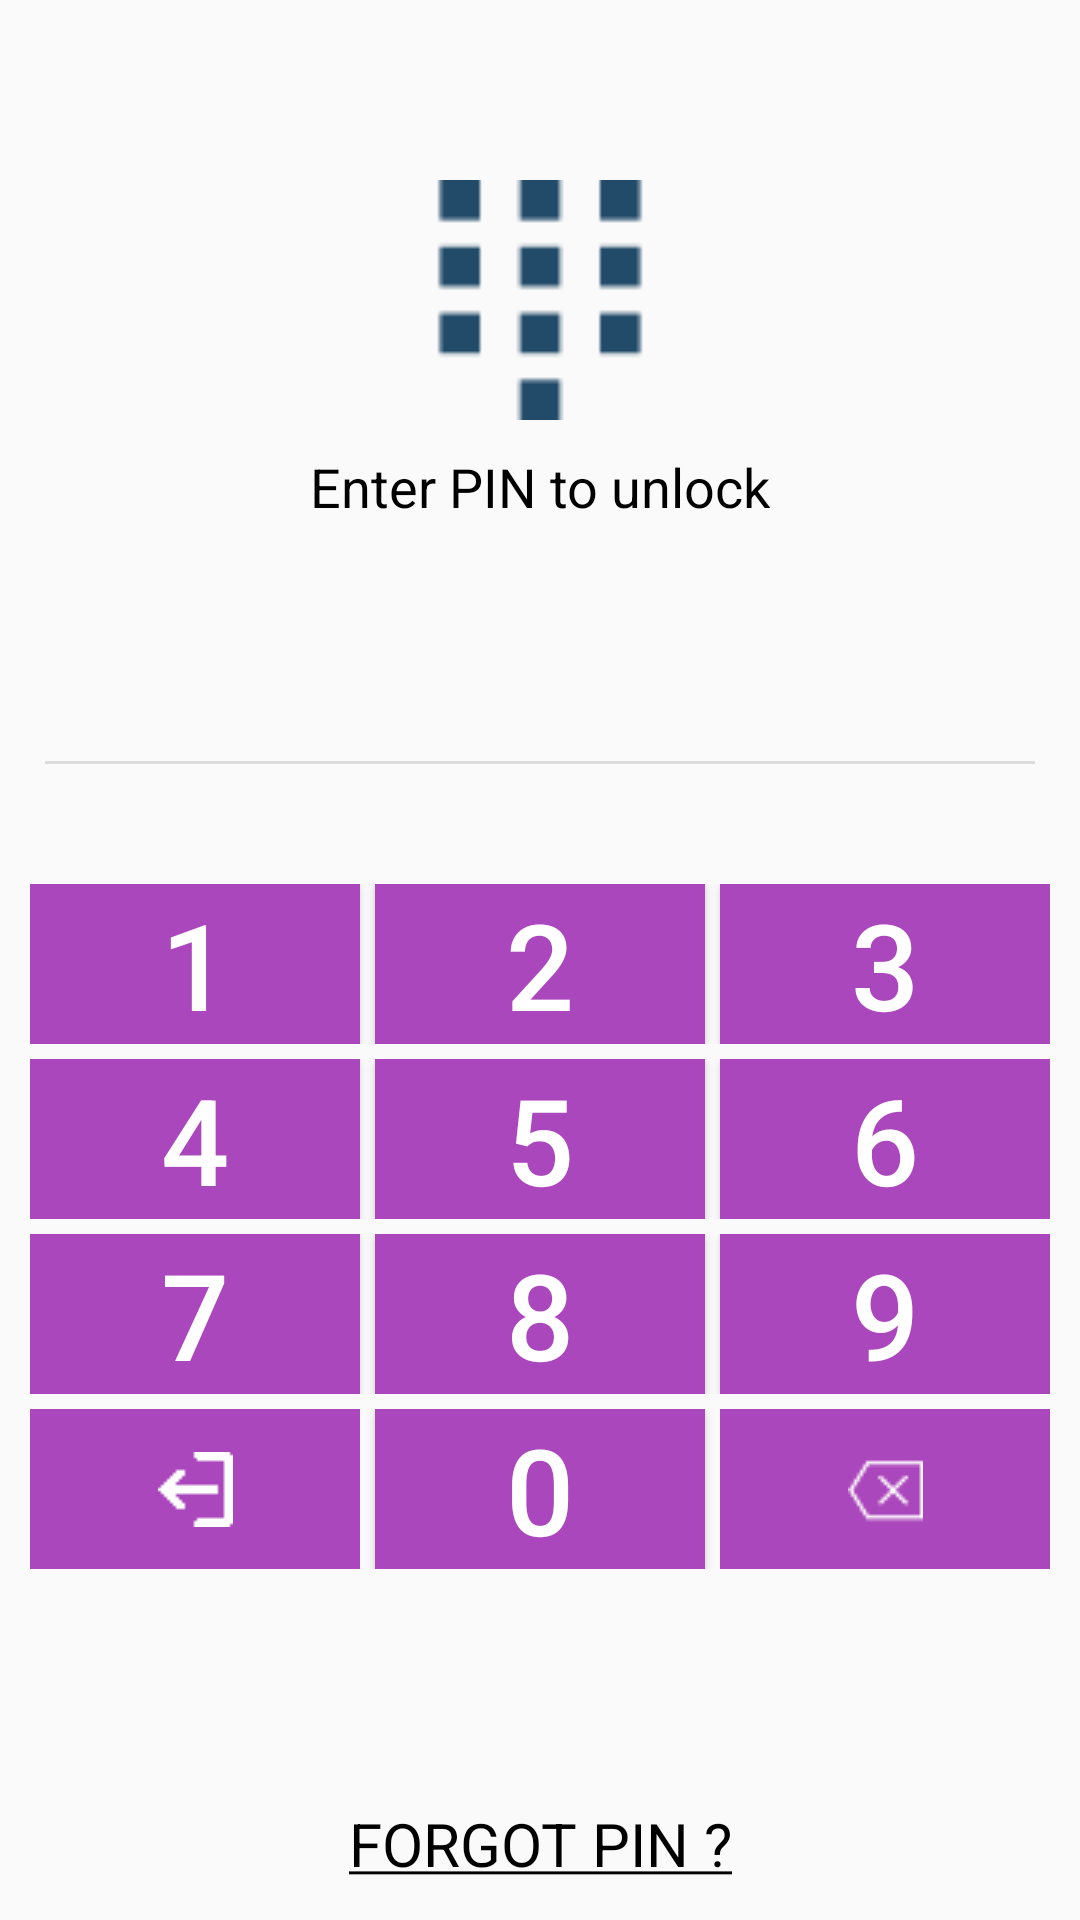

Icons on this 1080*1920 Android screen, each with the point to tap as (x,y):
backspace: (885,1489)
dial: (540,300)
